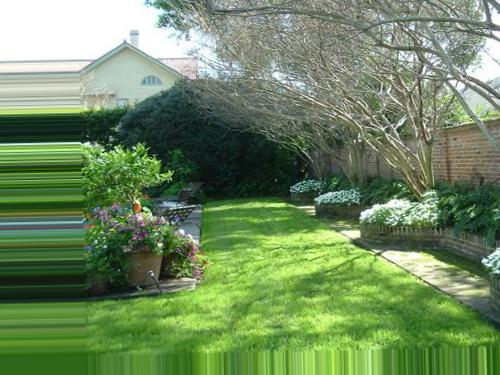patch: (395, 252, 408, 258)
